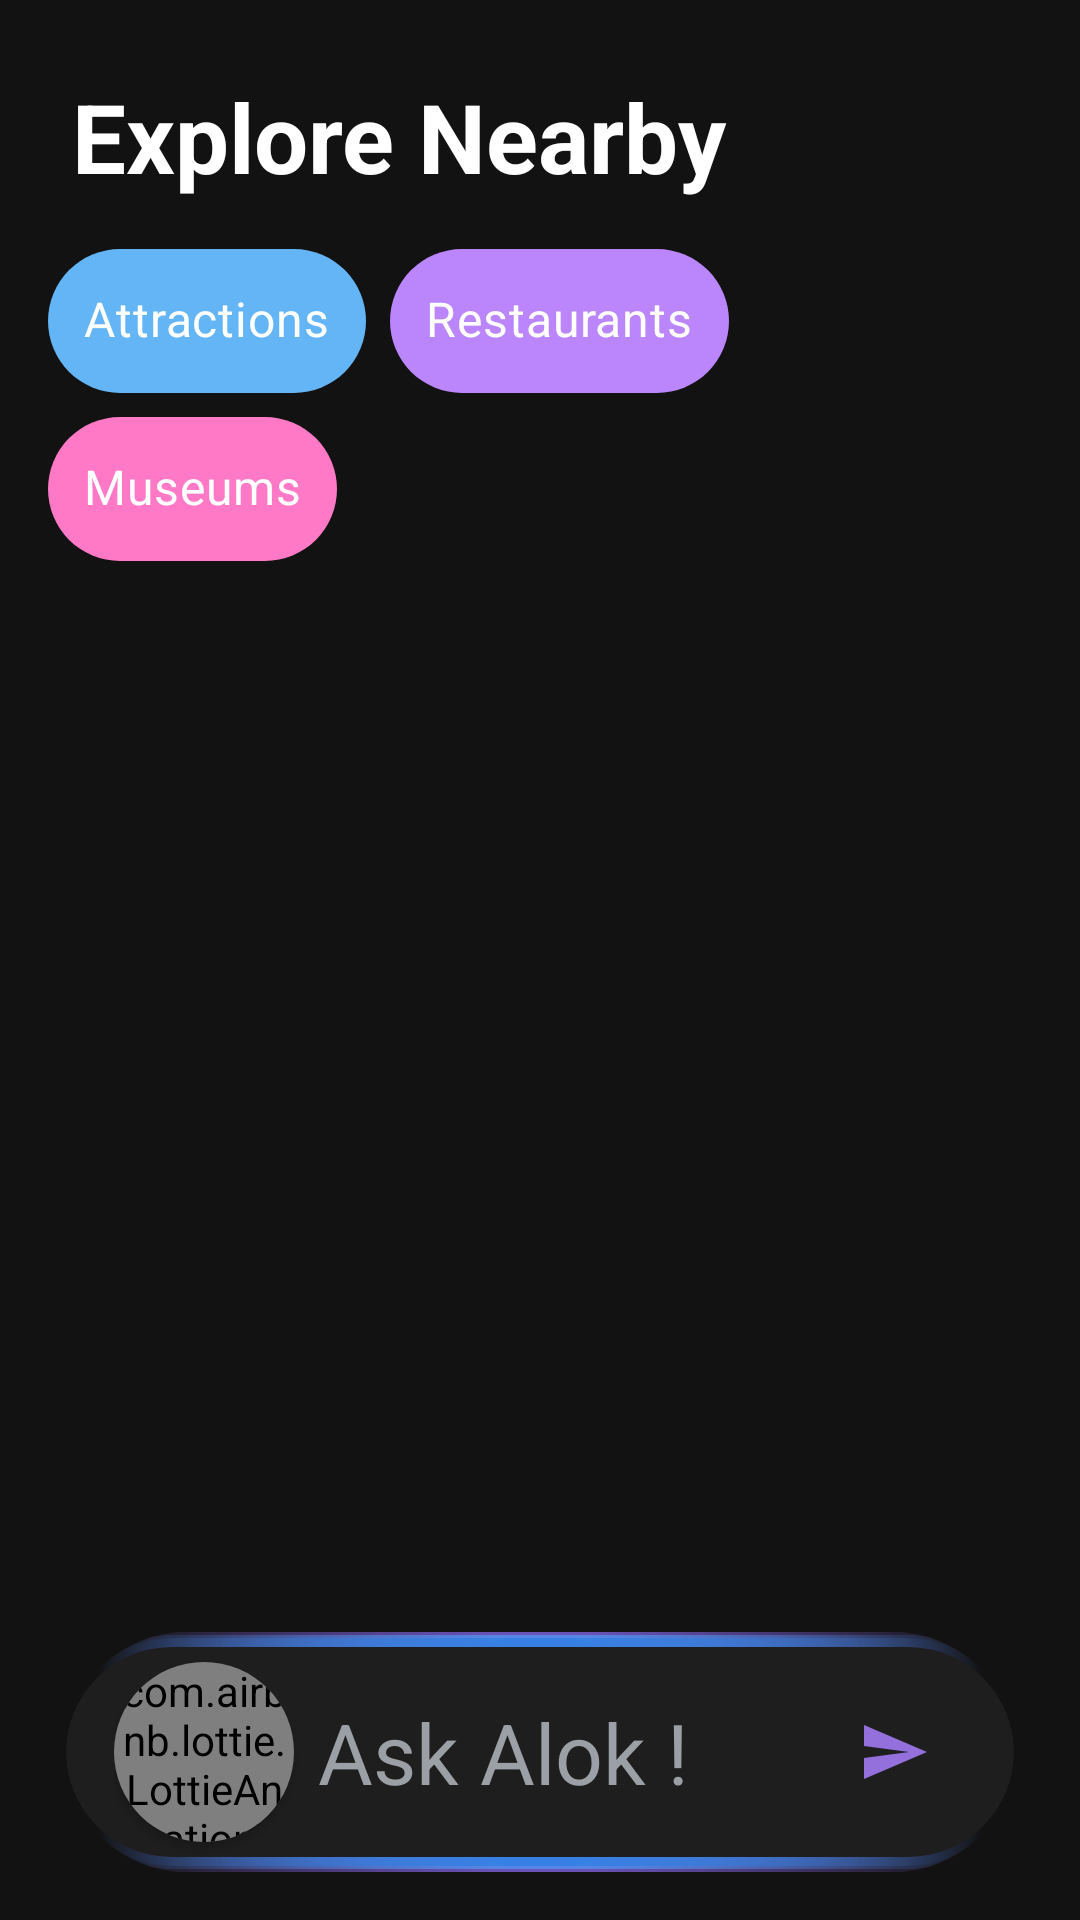

Point at icon controls on the screen. Image size 1080 × 1920, points as point (x, y).
send: point (895, 1752)
